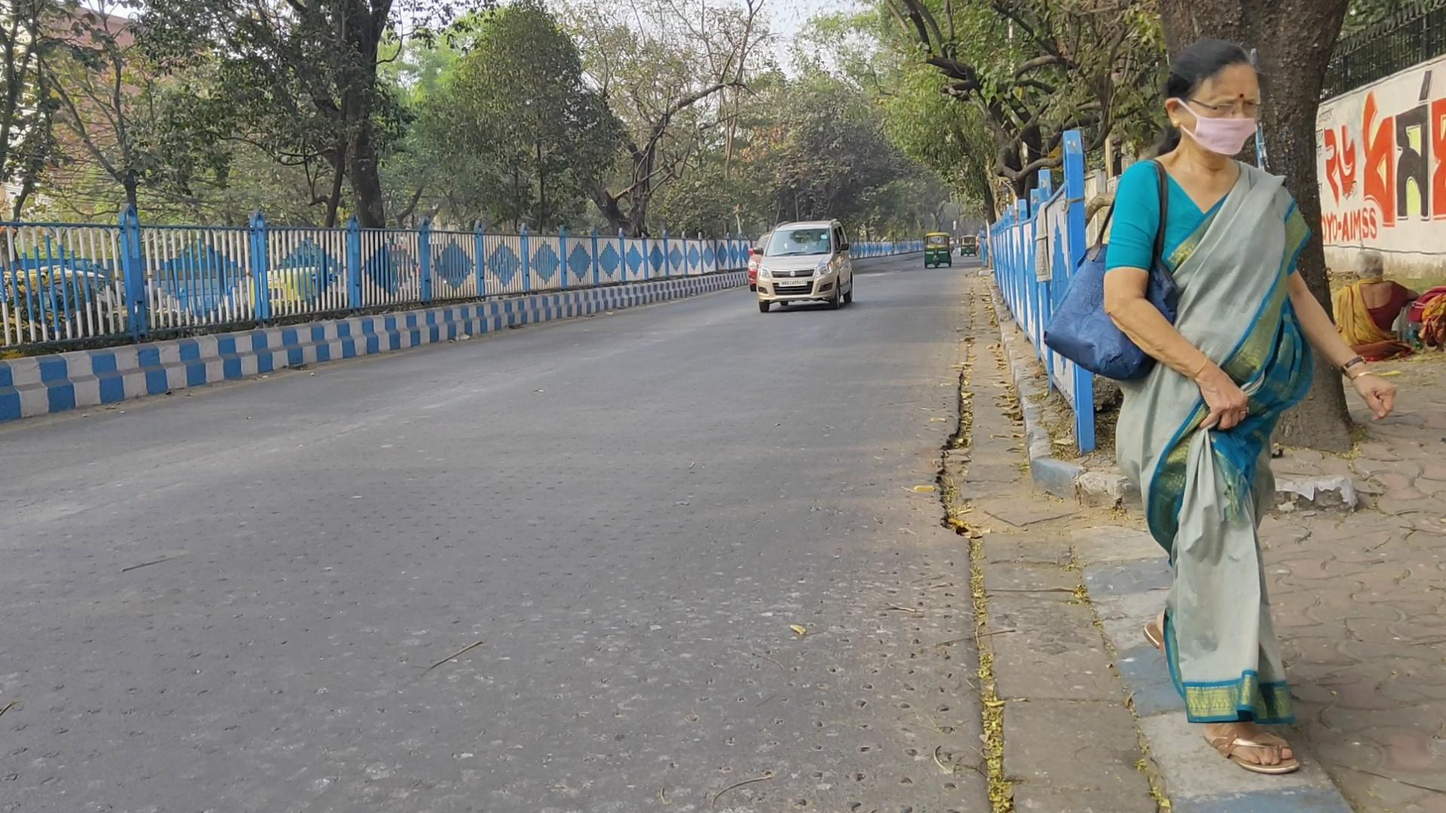Auto: (923, 231, 953, 269), (959, 234, 976, 256)
car: (755, 219, 853, 312)
